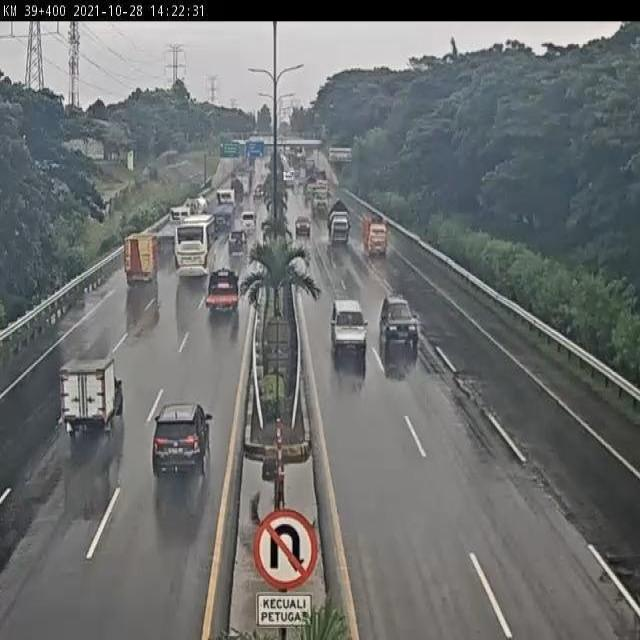Bus: (171, 215, 214, 279)
Car: (141, 396, 219, 482), (381, 290, 424, 348), (224, 227, 252, 259), (288, 211, 314, 242)
Truck: (52, 350, 127, 446), (119, 232, 165, 290), (202, 260, 247, 318), (360, 209, 395, 266), (326, 198, 351, 248), (208, 188, 238, 227), (172, 197, 208, 226)
Van: (327, 291, 377, 361), (239, 207, 262, 234)
